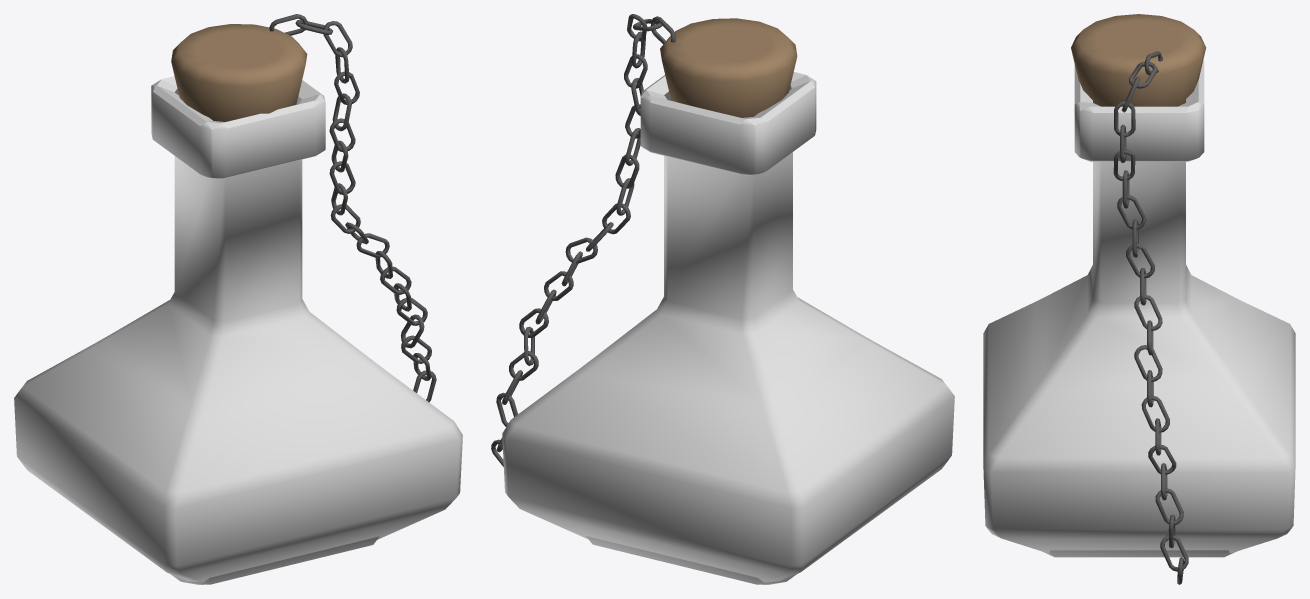
File: potion green.fbx
3 renders of one model, left to right at view 1: azimuth 30°, elevation 25°; view 2: azimuth 150°, elevation 25°; view 3: azimuth 270°, elevation 25°, orthographic. The views are drawn at different scales.
Parts seen in each view (by area): view 1: Cube.001, Cylinder.001, Torus.001; view 2: Cube.001, Cylinder.001, Torus.001; view 3: Cube.001, Cylinder.001, Torus.001.
Part boxes in pixels (<box>): Cube.001: <box>14,76,462,584</box>; Cylinder.001: <box>171,24,307,121</box>; Torus.001: <box>269,14,436,402</box>; Cube.001: <box>502,72,954,584</box>; Cylinder.001: <box>660,18,797,117</box>; Torus.001: <box>491,14,675,466</box>; Cube.001: <box>983,61,1295,557</box>; Cylinder.001: <box>1071,14,1206,106</box>; Torus.001: <box>1113,51,1188,584</box>.
Bounding box in the file's own units: 245 × 320 × 184.
